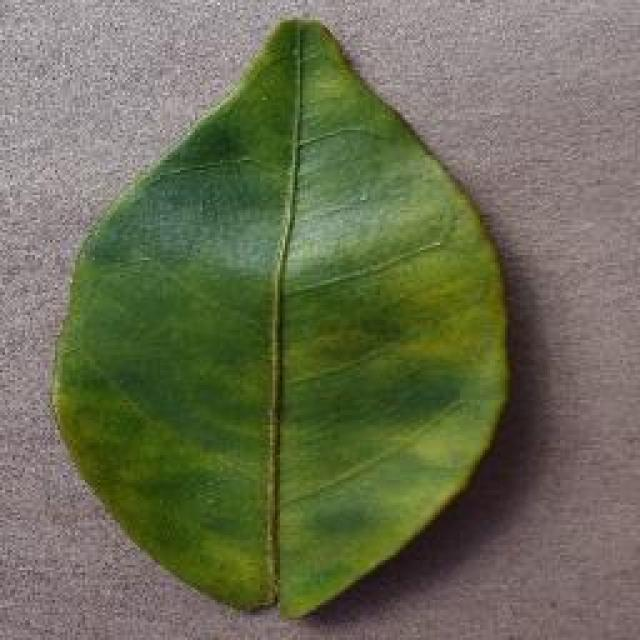Orange_Haunglongbing_Citrus_greening: (109, 128, 519, 568)
